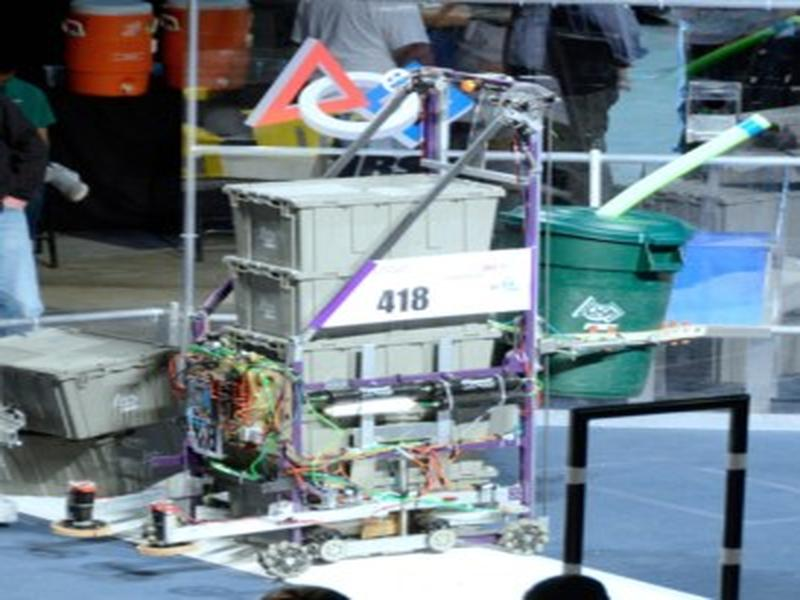robot: (207, 70, 545, 570)
